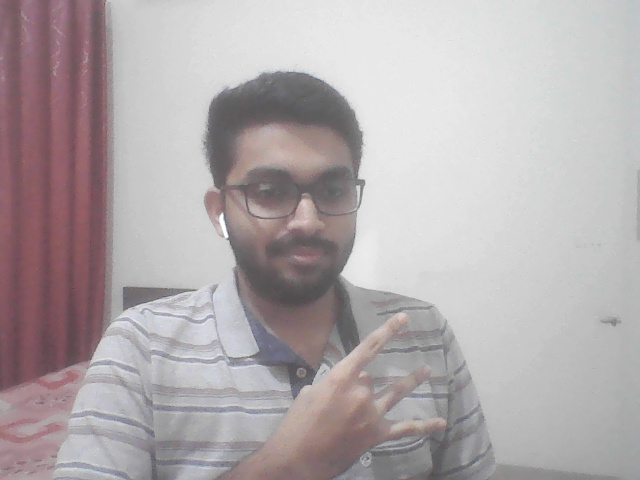like: (249, 303, 457, 476)
